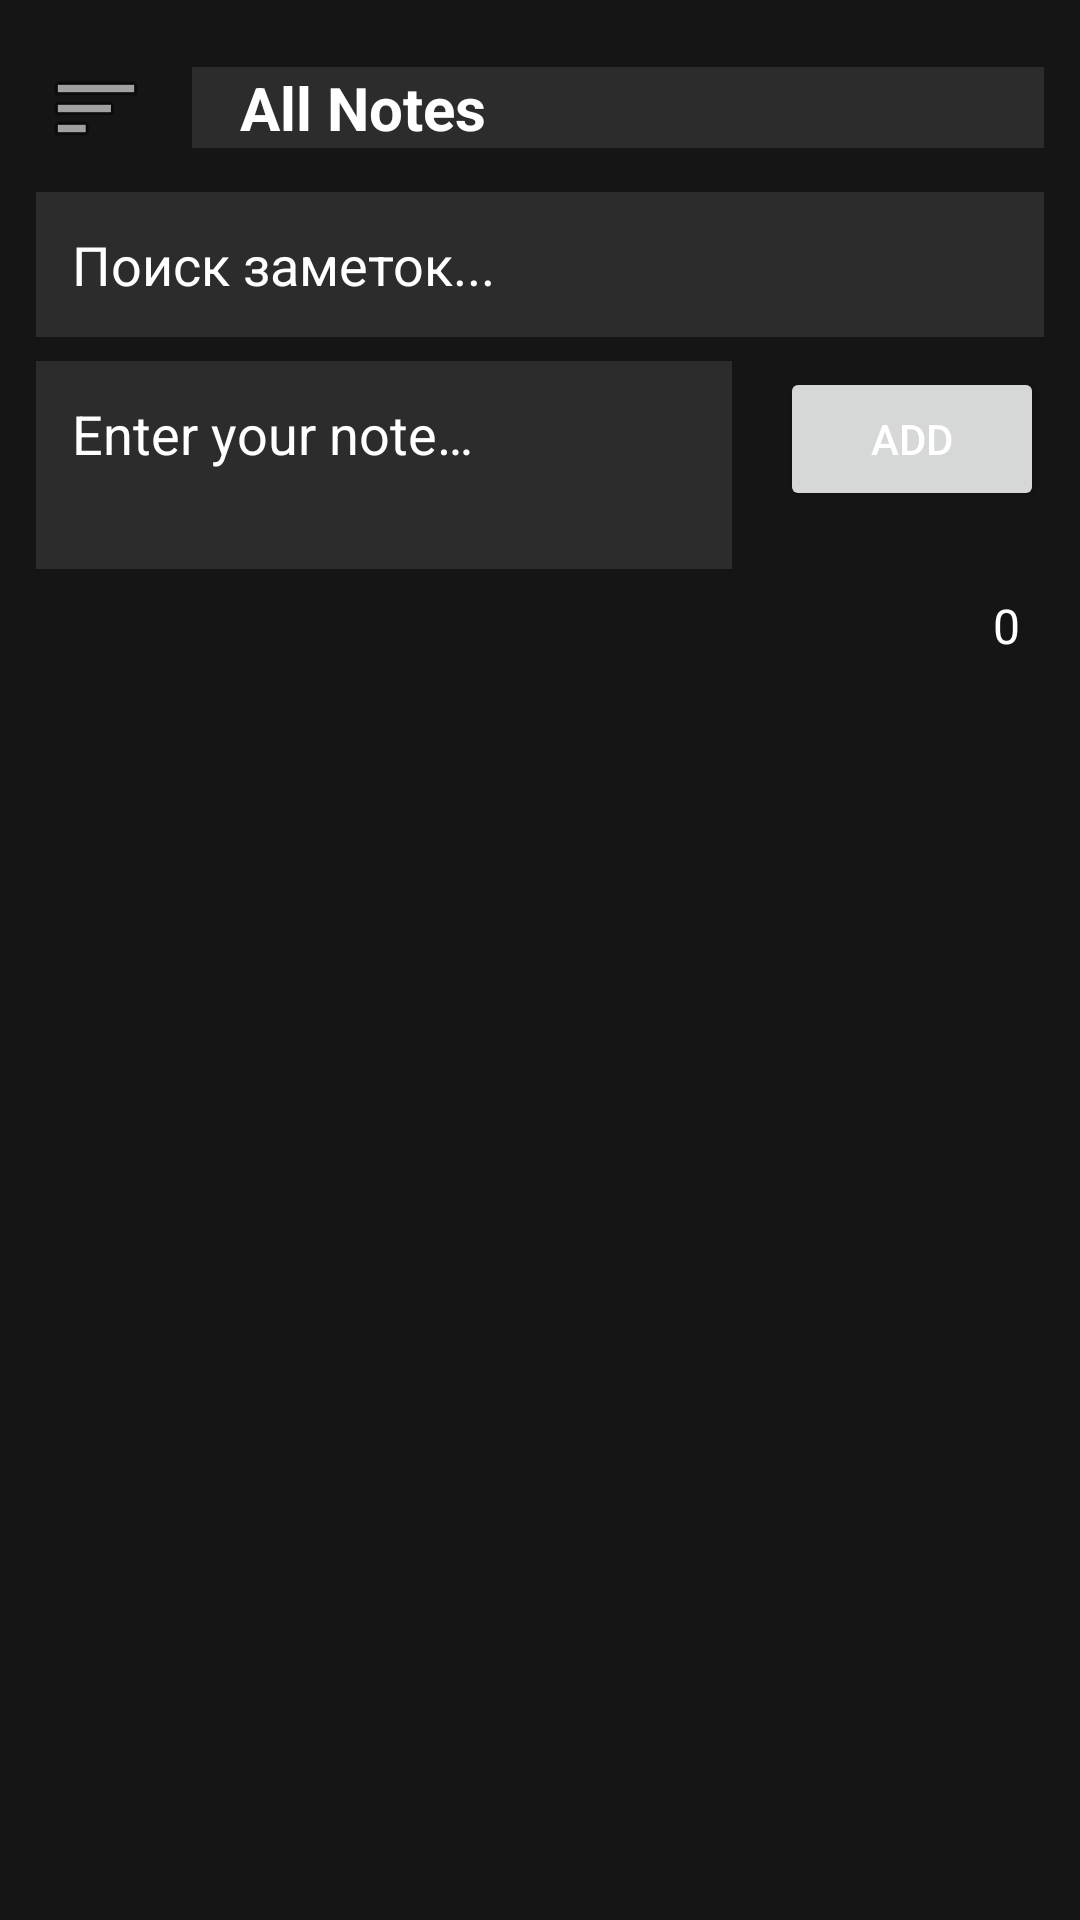

Screen size 1080 x 1920. Icon name, then its center in pixels as [x,y]:
Menu: [96,108]
